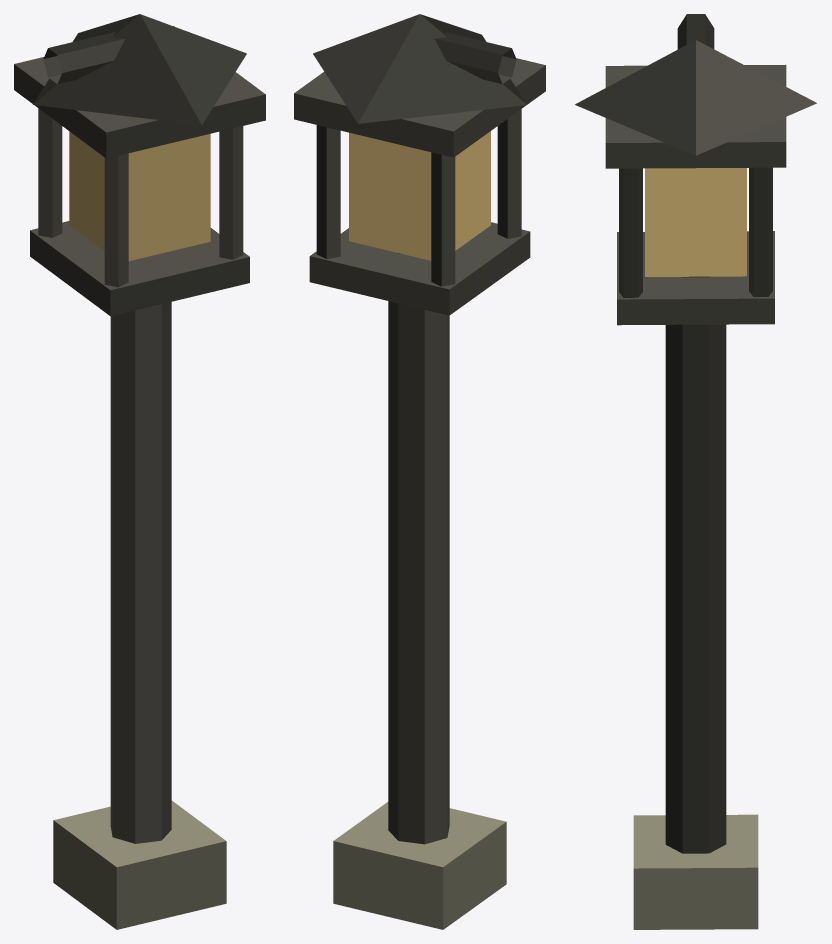
The picture shows the model from 3 angles, left to right: view 1: azimuth 30°, elevation 25°; view 2: azimuth 150°, elevation 25°; view 3: azimuth 270°, elevation 25°; orthographic projection.
Visible parts, largest first — view 1: b9169fde291db07d387966354bea86d17ead1aaee79f45e824a507c3250d; view 2: b9169fde291db07d387966354bea86d17ead1aaee79f45e824a507c3250d; view 3: b9169fde291db07d387966354bea86d17ead1aaee79f45e824a507c3250d.
Boxes of the visible parts, bbox=[...] form: b9169fde291db07d387966354bea86d17ead1aaee79f45e824a507c3250d: bbox=[14, 14, 265, 929]; b9169fde291db07d387966354bea86d17ead1aaee79f45e824a507c3250d: bbox=[294, 14, 545, 929]; b9169fde291db07d387966354bea86d17ead1aaee79f45e824a507c3250d: bbox=[575, 14, 816, 929].
Bounding box in the file's own units: 0.86 × 3.37 × 0.86.
2 materials, 1 textured.
